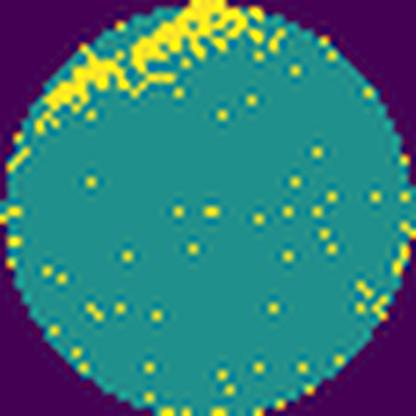Loc: (134, 3, 249, 114), (44, 52, 128, 118)
